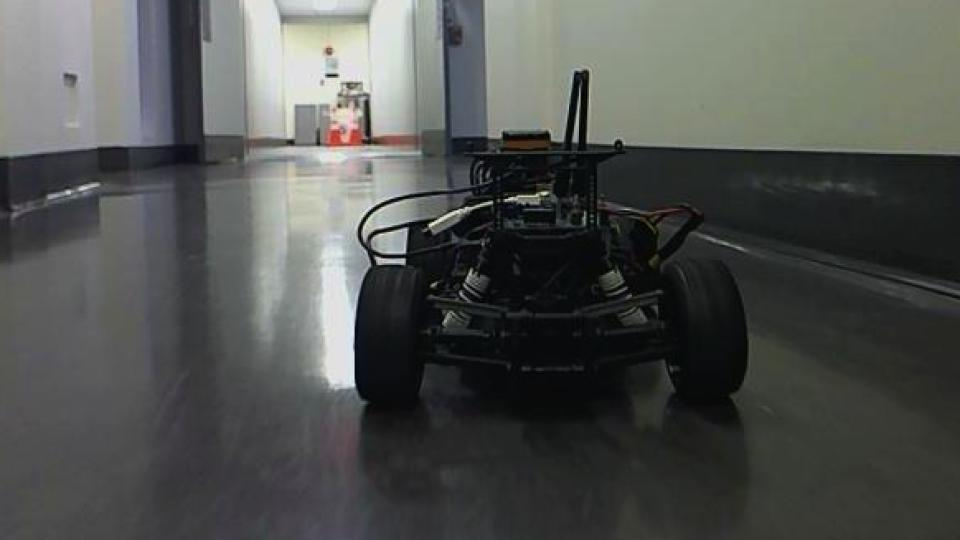car: (348, 67, 752, 412)
